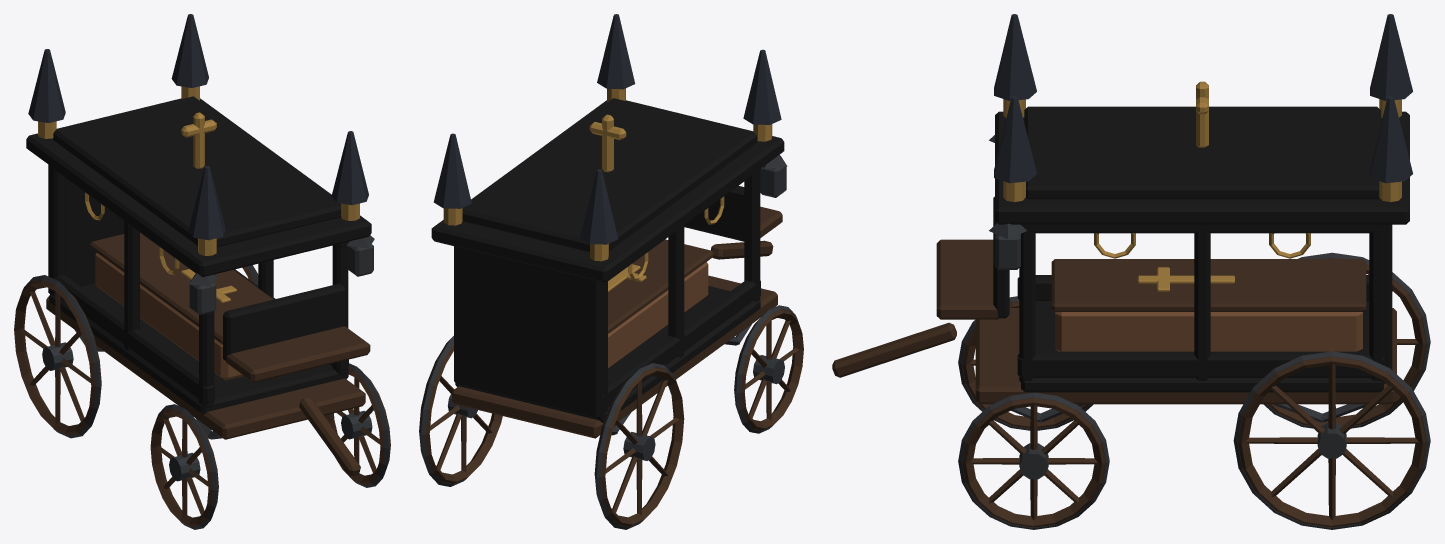
File: hearse.glb
3 views of the same model, side by side, from view 1: azimuth 30°, elevation 25°; view 2: azimuth 150°, elevation 25°; view 3: azimuth 270°, elevation 25° (orthographic). The views are drawn at different scales.
Parts seen in each view (by area): view 1: Hearse, Wheel2, Wheel0, Wheel1; view 2: Hearse, Wheel2, Wheel0, Wheel3; view 3: Hearse, Wheel3, Wheel1, Wheel2, Wheel0.
Part boxes in pixels (<box>): Hearse: <box>26,14,374,476</box>; Wheel2: <box>14,275,101,438</box>; Wheel0: <box>150,404,218,529</box>; Wheel1: <box>324,363,390,487</box>; Hearse: <box>431,14,787,438</box>; Wheel2: <box>594,363,684,529</box>; Wheel0: <box>734,305,803,433</box>; Wheel3: <box>419,336,502,486</box>; Hearse: <box>832,14,1412,422</box>; Wheel3: <box>1233,351,1430,529</box>; Wheel1: <box>958,392,1109,529</box>; Wheel2: <box>1263,252,1430,428</box>; Wheel0: <box>958,296,1093,430</box>.
Size of the model in its own units: 0.8 by 1.44 by 1.85.
